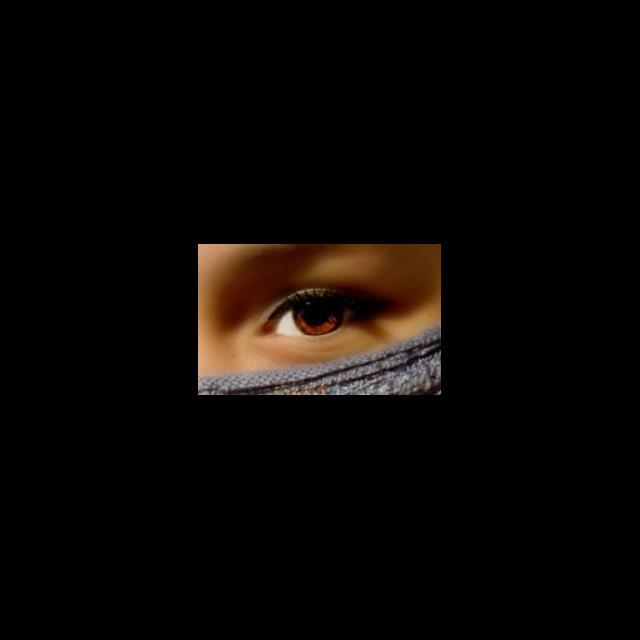eye: (277, 300, 354, 336)
iris: (295, 302, 345, 335)
